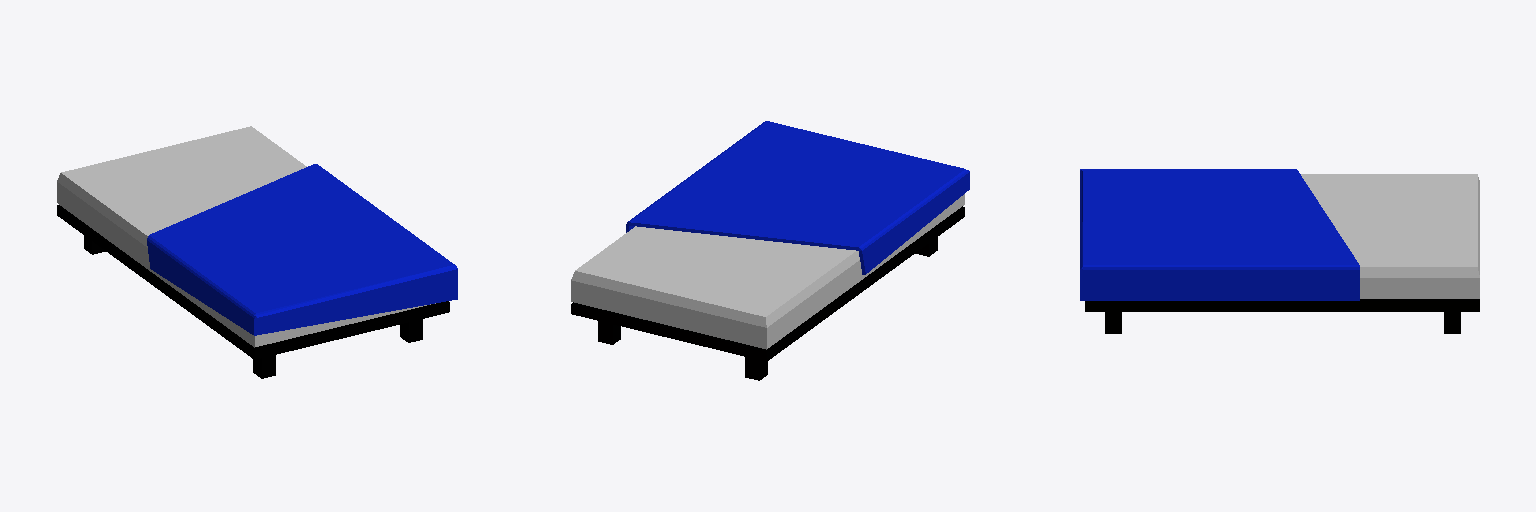
The model's file is bed.obj.
3 views of the same model, side by side, from view 1: azimuth 30°, elevation 25°; view 2: azimuth 150°, elevation 25°; view 3: azimuth 270°, elevation 25° (orthographic).
Visible parts, largest first — view 1: Cube.001, Cube; view 2: Cube, Cube.001; view 3: Cube.001, Cube.
Part boxes in pixels (left/top/right/bottom): Cube.001: left=147, top=164, right=457, bottom=335; Cube: left=57, top=126, right=449, bottom=378; Cube: left=571, top=194, right=964, bottom=380; Cube.001: left=626, top=121, right=969, bottom=274; Cube.001: left=1080, top=169, right=1359, bottom=300; Cube: left=1085, top=174, right=1479, bottom=333.
Size of the model in its own units: 4.16 by 1.52 by 7.09.